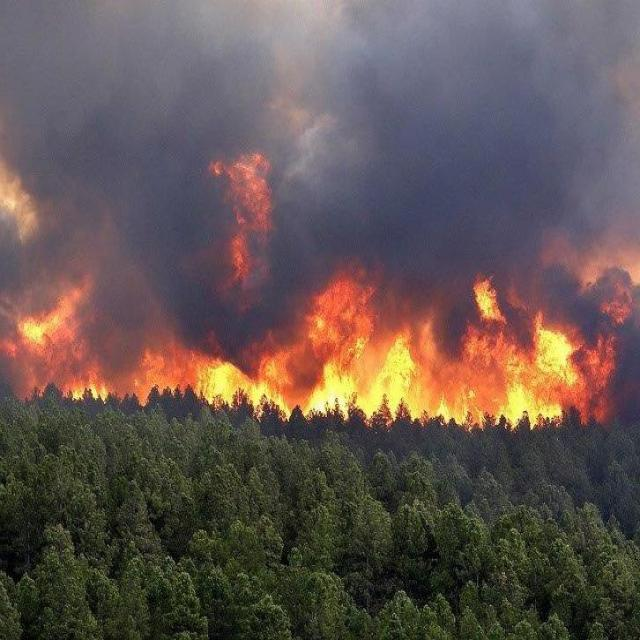Fire: (132, 150, 632, 434), (70, 374, 108, 406), (22, 316, 59, 346)
Smoke: (1, 2, 640, 420)
